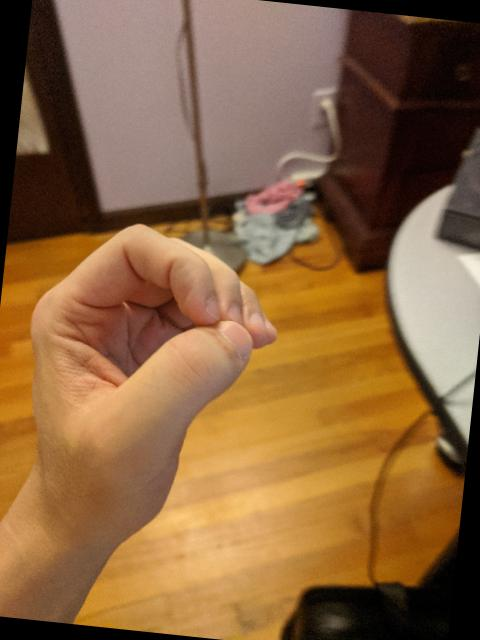O: (2, 207, 294, 558)
